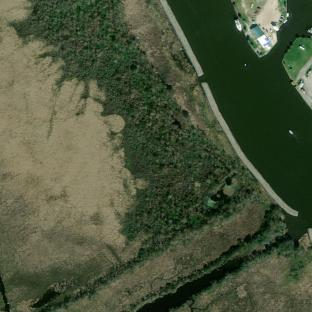Floresta: (15, 0, 234, 251), (126, 204, 282, 312)
